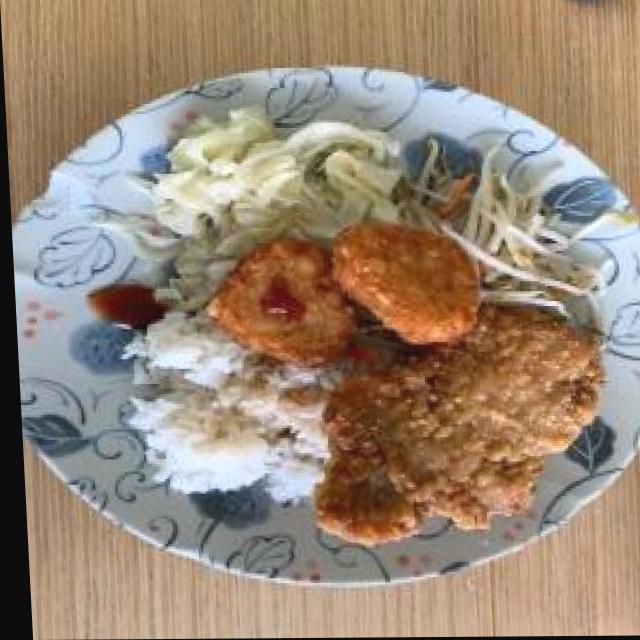chinese_cabbage: (176, 138, 388, 234)
fried_chicken: (329, 334, 587, 543)
mung_bean_sprouts: (447, 180, 570, 303)
rice: (142, 358, 315, 494)
triangle_hash_brown: (217, 229, 455, 349)
